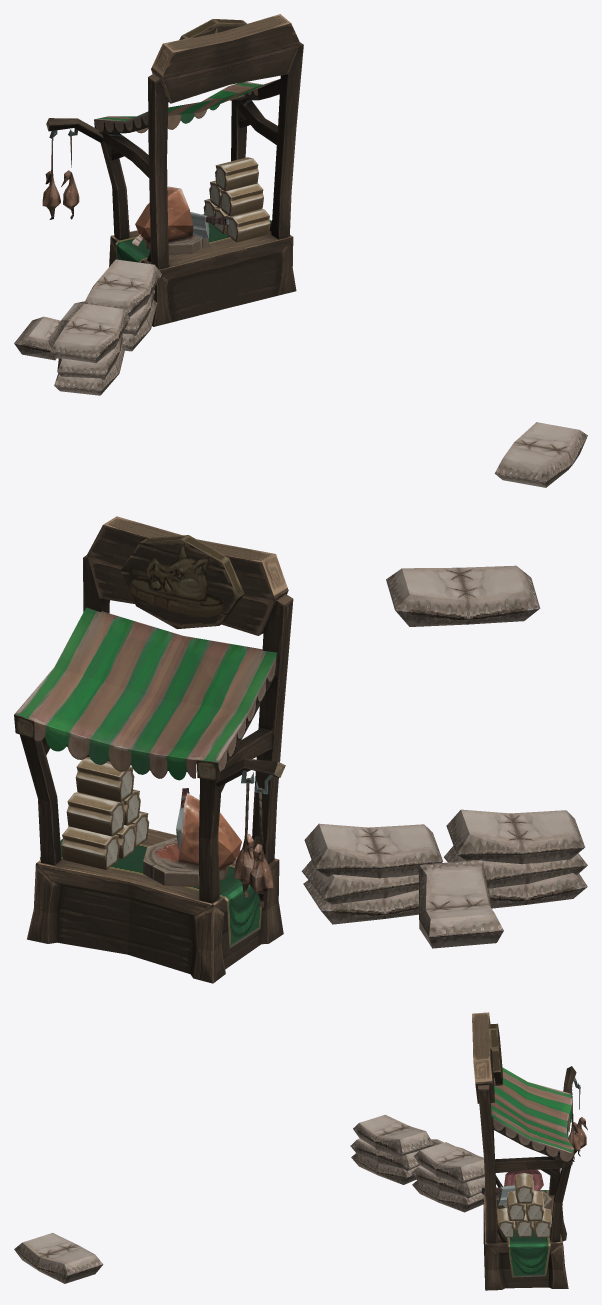
File: object_market_items.fbx
The picture shows the model from 3 angles, top to bottom: view 1: azimuth 30°, elevation 25°; view 2: azimuth 150°, elevation 25°; view 3: azimuth 270°, elevation 25°; orthographic projection. The views are drawn at different scales.
Parts seen in each view (by area): view 1: obj2.006; view 2: obj2.006; view 3: obj2.006.
Boxes of the visible parts, x1,y1,x2,y2 form: obj2.006: (14, 14, 587, 487); obj2.006: (14, 516, 587, 983); obj2.006: (14, 1012, 587, 1290).
Size of the model in its own units: 6.08 by 4.83 by 10.81.
